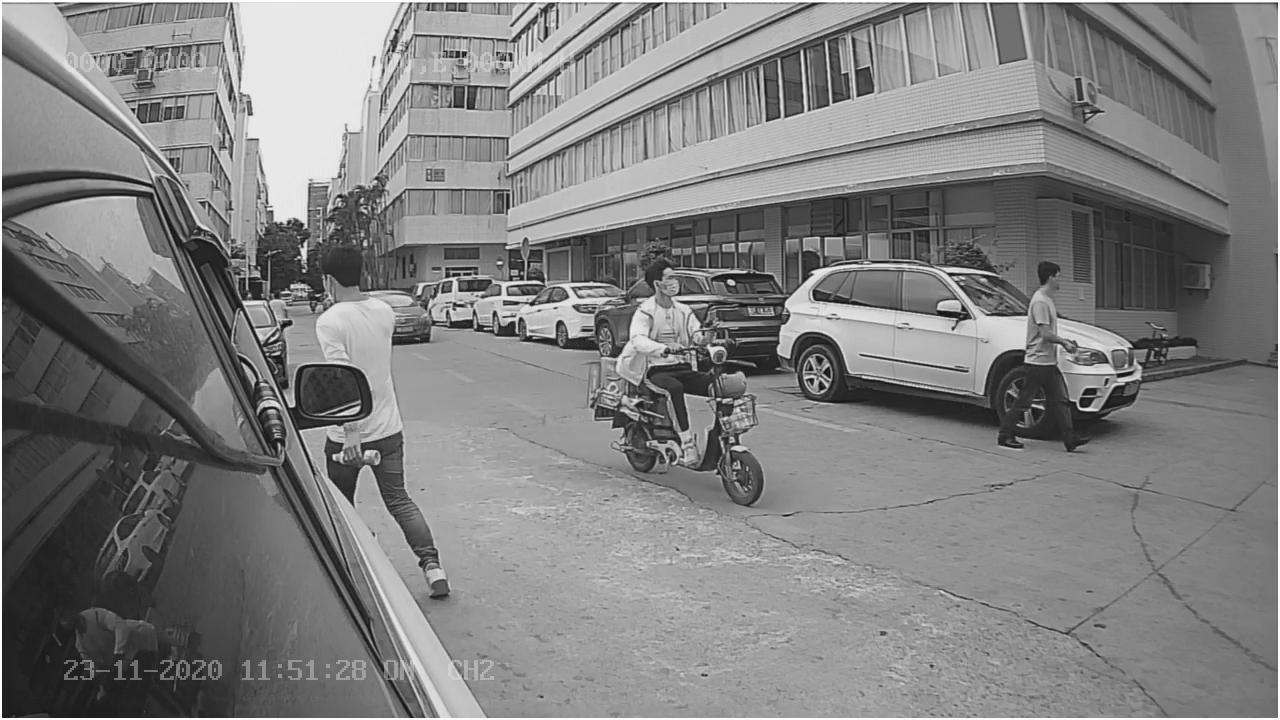person: (995, 254, 1101, 458), (627, 246, 724, 356), (306, 242, 393, 361)
